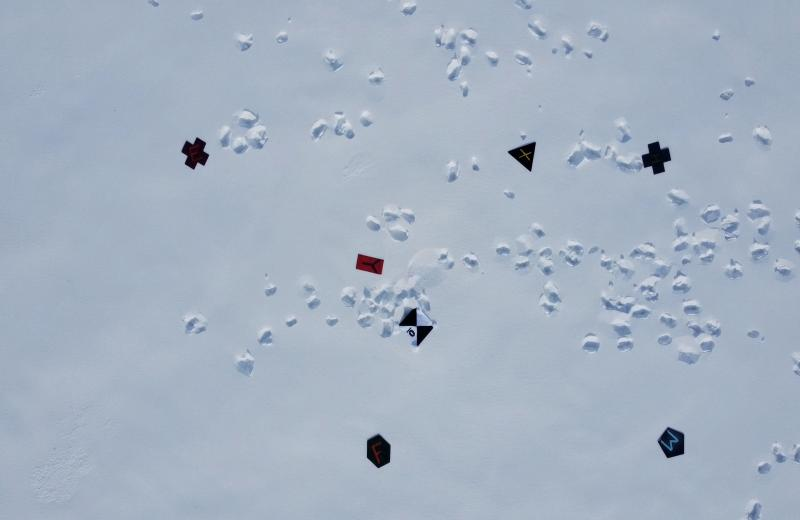Cross: (636, 138, 673, 178), (176, 136, 214, 172)
Hexagon: (361, 430, 394, 470)
Pentagon: (654, 423, 688, 461)
Rectangle: (353, 248, 388, 280)
Triangle: (503, 136, 539, 174)
